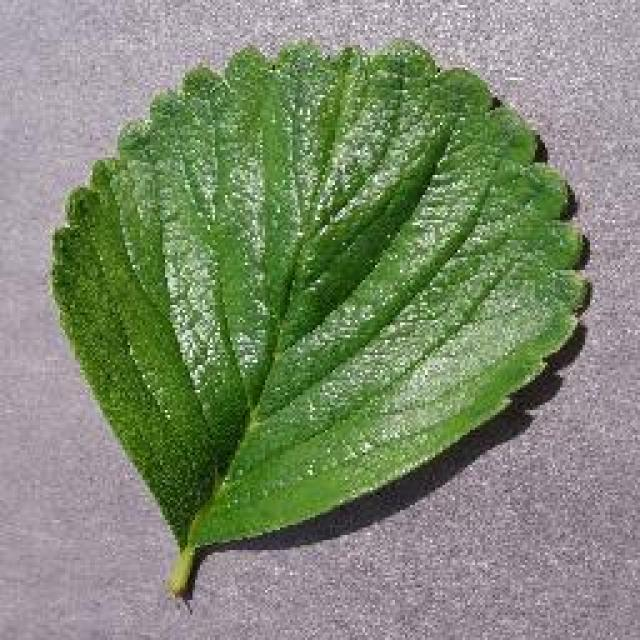Strawberry___healthy: (35, 15, 603, 620)
